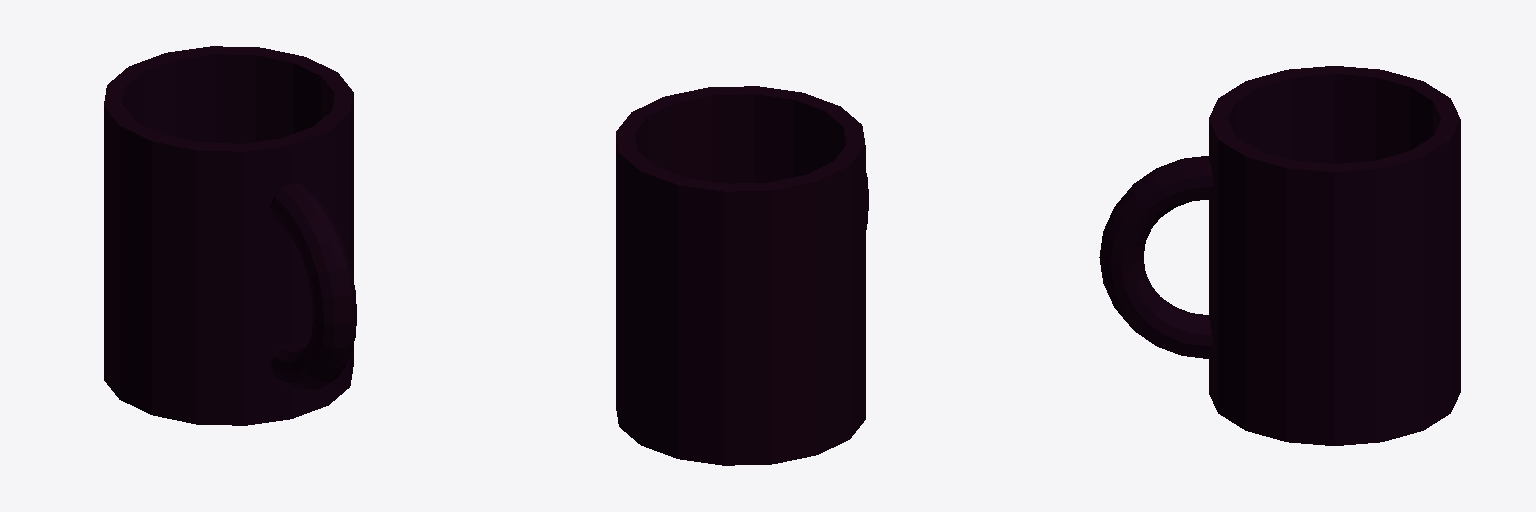
The model's file is mug.obj.
3 renders of one model, left to right at view 1: azimuth 30°, elevation 25°; view 2: azimuth 150°, elevation 25°; view 3: azimuth 270°, elevation 25°, orthographic.
Parts seen in each view (by area): view 1: Cylinder; view 2: Cylinder; view 3: Cylinder.
Boxes of the visible parts, <box> form: Cylinder: <box>104,46,356,425</box>; Cylinder: <box>616,86,868,465</box>; Cylinder: <box>1099,66,1460,445</box>.
Size of the model in its own units: 2 by 2.4 by 2.87.